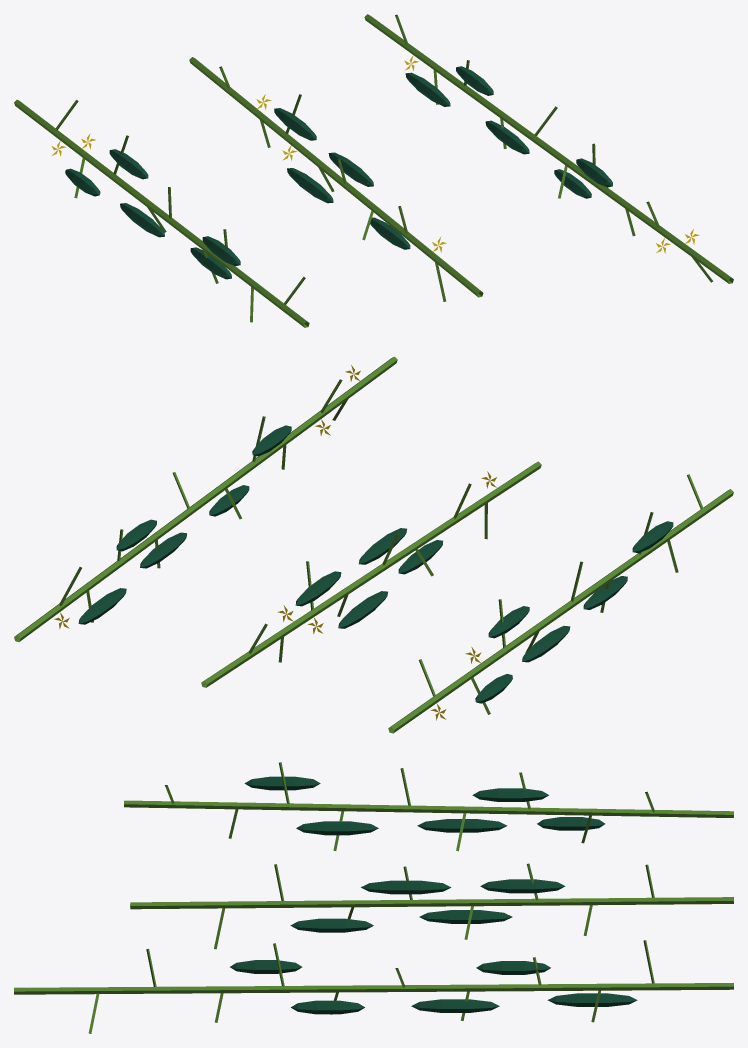
Rendered from r25c2_stems.obj.
3 renders of one model, top to bottom at view 1: azimuth 30°, elevation 25°; view 2: azimuth 150°, elevation 25°; view 3: azimuth 270°, elevation 25°, orthographic. The views are drawn at different scales.
Visible parts, largest first — view 1: r25c2_stems; view 2: r25c2_stems; view 3: r25c2_stems.
Part boxes in pixels (bbox=[...]): r25c2_stems: bbox=[14, 14, 733, 327]; r25c2_stems: bbox=[14, 356, 733, 733]; r25c2_stems: bbox=[14, 762, 733, 1033].
Bounding box in the file's own units: 1.4 × 0.317 × 2.17.
